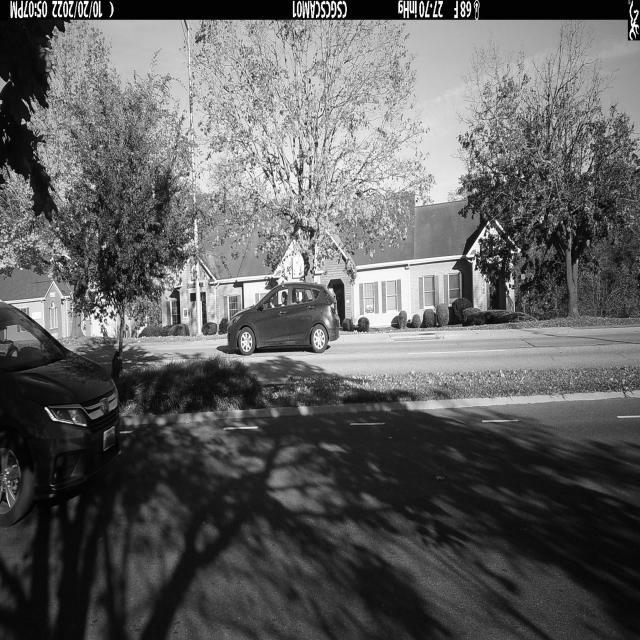Hatchback: (227, 281, 340, 356)
